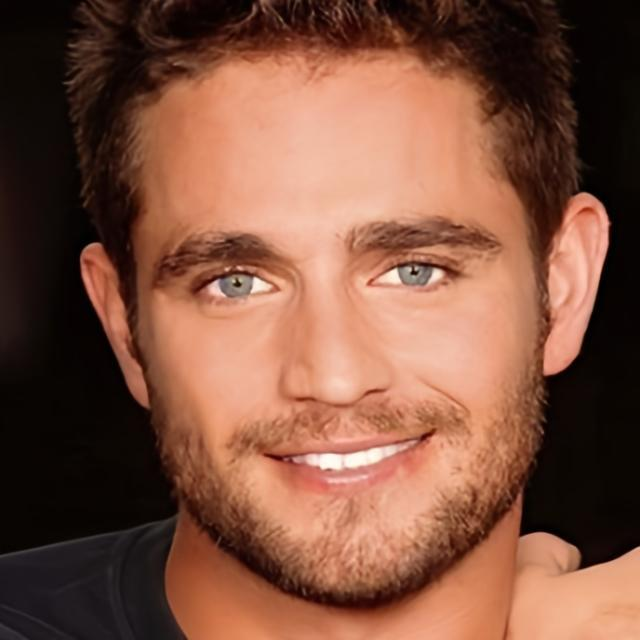happy: (136, 32, 544, 606)
